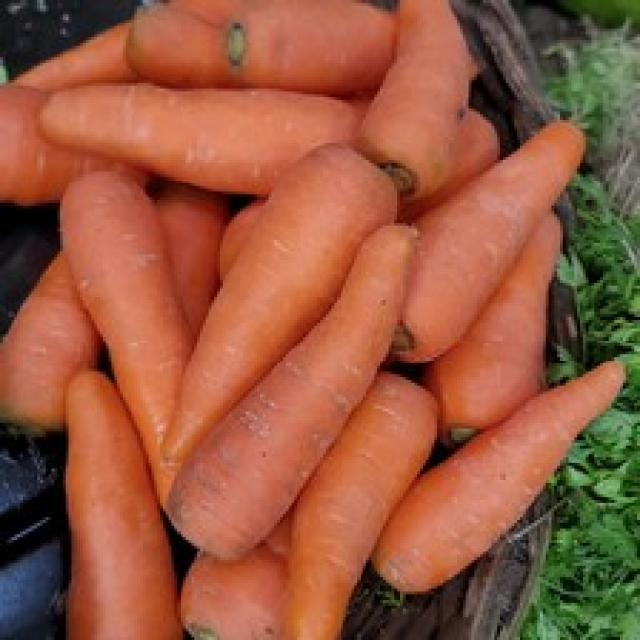Fresh_Carrot: (146, 177, 412, 445), (402, 347, 640, 587), (59, 173, 207, 416), (48, 77, 368, 182)
